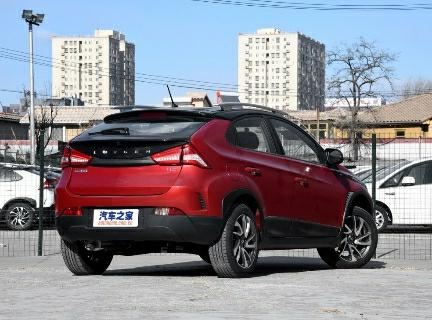car: (39, 93, 394, 285)
